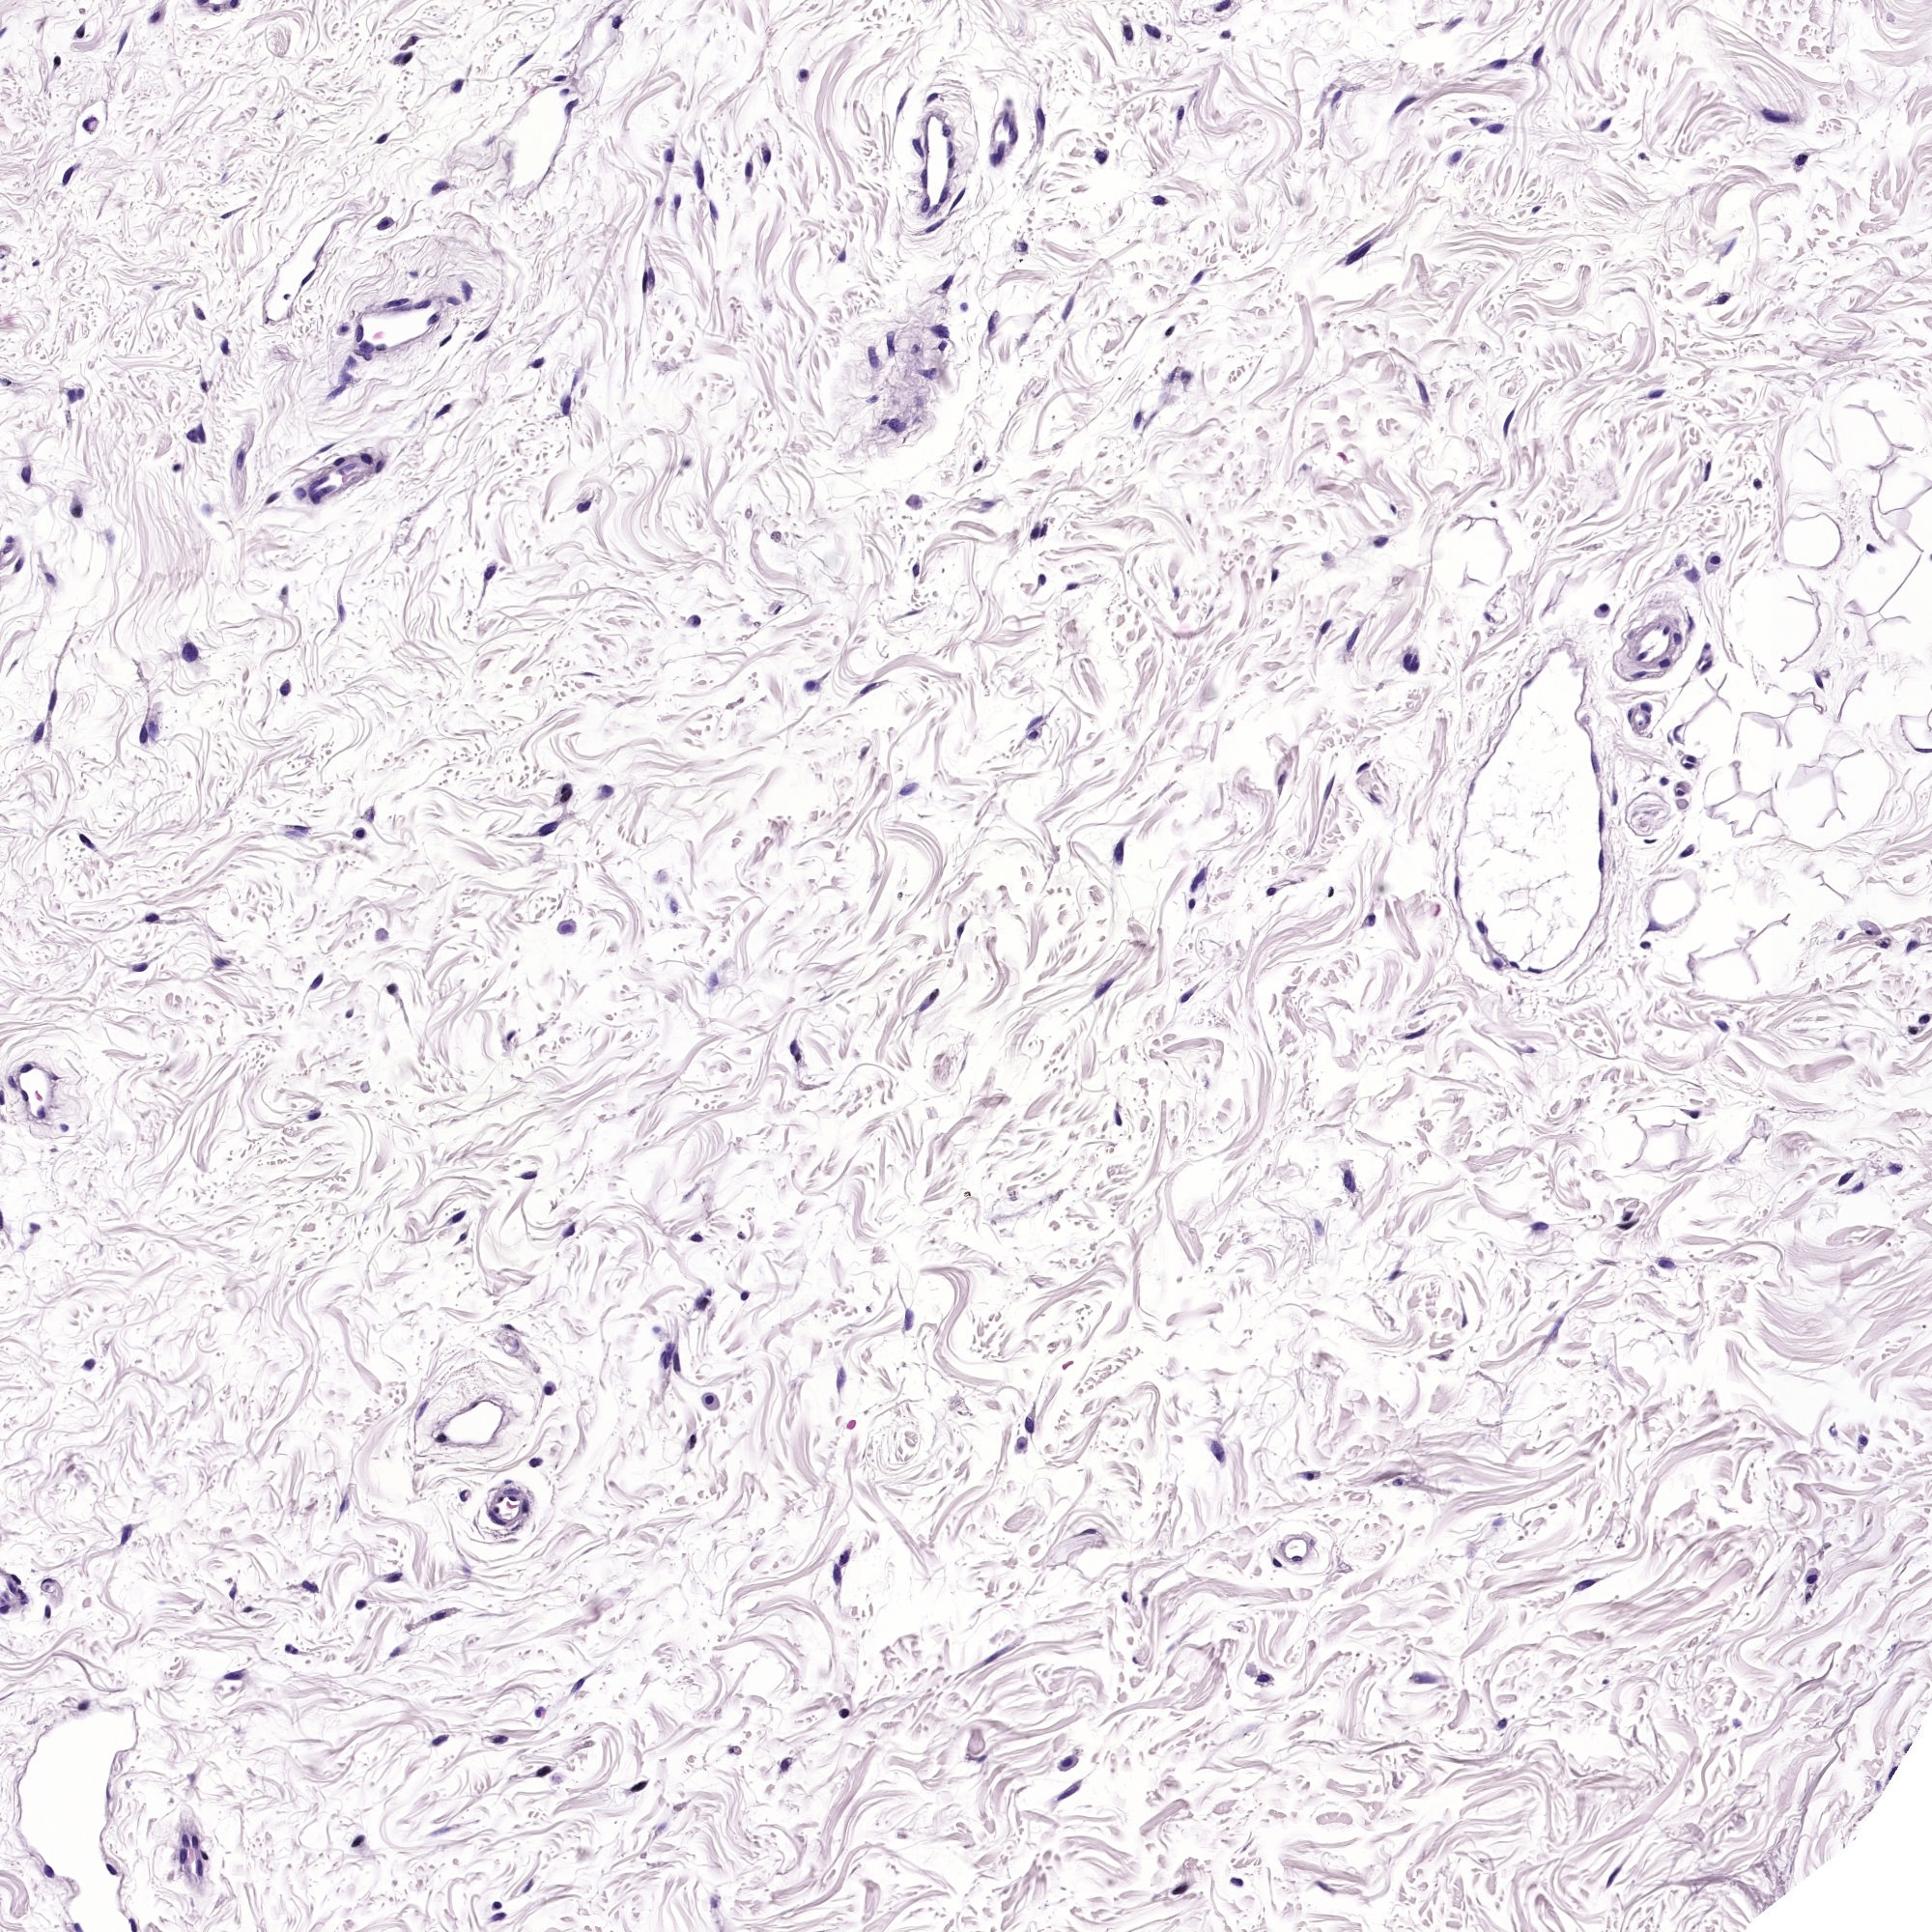fibroblast and endothelial: (793, 1047, 800, 1058), (317, 490, 324, 497), (1067, 308, 1072, 317), (1401, 103, 1408, 108), (317, 479, 324, 485), (1196, 874, 1201, 881), (1097, 989, 1104, 994), (1686, 849, 1691, 856), (1580, 1583, 1587, 1589), (156, 12, 161, 18), (1361, 249, 1366, 255), (1417, 1674, 1422, 1679), (25, 472, 28, 479), (545, 826, 548, 833), (1601, 858, 1605, 865), (433, 1615, 441, 1619), (64, 175, 67, 180), (1039, 115, 1042, 120), (895, 423, 901, 426), (865, 688, 870, 692), (188, 432, 191, 437), (563, 789, 568, 793), (1184, 994, 1187, 1000), (1497, 962, 1500, 968), (527, 1171, 531, 1177), (311, 1115, 317, 1118), (124, 1529, 127, 1534), (248, 1608, 253, 1612), (469, 1405, 474, 1408), (356, 1840, 361, 1844), (225, 214, 228, 218), (478, 334, 481, 338), (1016, 131, 1017, 138), (989, 317, 991, 324), (1159, 198, 1162, 202), (1150, 27, 1154, 30), (1453, 156, 1456, 159), (1495, 126, 1497, 133), (1474, 120, 1477, 124), (488, 570, 490, 577), (364, 456, 368, 460), (48, 577, 51, 580), (138, 966, 142, 970), (150, 916, 154, 920), (315, 980, 318, 984), (1373, 796, 1376, 800), (1594, 761, 1598, 764), (1647, 840, 1654, 842), (1530, 970, 1537, 971), (1844, 1177, 1847, 1180), (1537, 1223, 1541, 1226), (288, 1647, 292, 1651), (391, 1576, 398, 1578), (1065, 1790, 1072, 1792), (571, 103, 573, 108), (433, 317, 435, 322), (701, 172, 702, 177), (656, 198, 658, 203), (957, 198, 959, 203), (996, 156, 998, 161), (947, 280, 948, 285), (1129, 28, 1131, 34), (200, 432, 202, 437), (16, 563, 18, 568), (510, 1033, 511, 1039), (932, 996, 934, 1001), (1279, 780, 1281, 786), (1329, 890, 1330, 895), (1415, 1033, 1421, 1035), (579, 1679, 580, 1684), (57, 58, 58, 62), (382, 138, 384, 142), (433, 186, 437, 188), (522, 58, 525, 60), (561, 76, 564, 78), (453, 301, 456, 303), (446, 340, 448, 343), (423, 303, 425, 306), (748, 166, 750, 170), (669, 154, 671, 157), (711, 209, 713, 212), (840, 257, 844, 258), (925, 203, 927, 207), (916, 145, 918, 149), (950, 161, 952, 165), (941, 331, 943, 334), (1499, 62, 1500, 65), (1536, 207, 1537, 211), (1603, 124, 1605, 127), (1721, 297, 1723, 301), (977, 465, 980, 467), (582, 506, 586, 508), (379, 464, 380, 467), (299, 490, 303, 492), (343, 467, 347, 469), (272, 497, 276, 499), (283, 688, 285, 692), (340, 610, 341, 614), (85, 839, 87, 842), (25, 1067, 28, 1069), (564, 796, 566, 800), (299, 826, 301, 830), (906, 789, 908, 793), (1120, 849, 1122, 853), (1362, 766, 1366, 768), (1481, 927, 1483, 931), (1884, 943, 1886, 947), (1911, 945, 1913, 948), (1890, 1166, 1891, 1169), (1858, 1185, 1859, 1189), (456, 1214, 458, 1217), (839, 1378, 842, 1380), (1394, 1274, 1398, 1276), (1624, 1224, 1628, 1226), (1865, 1437, 1867, 1440), (1382, 1474, 1384, 1477), (1219, 1451, 1221, 1454), (991, 1656, 993, 1660), (395, 1651, 396, 1654), (495, 1507, 497, 1511), (421, 1407, 423, 1410), (48, 1874, 50, 1877), (198, 1868, 200, 1872), (541, 1769, 543, 1773), (497, 1916, 499, 1920), (1235, 1881, 1238, 1882), (78, 28, 80, 30), (122, 39, 124, 41), (306, 276, 308, 278), (564, 90, 566, 92), (398, 301, 400, 303), (359, 331, 361, 333), (651, 278, 653, 280), (931, 97, 932, 99), (902, 101, 904, 103), (947, 131, 948, 133), (950, 149, 952, 150), (934, 226, 936, 228), (1005, 119, 1007, 120), (1221, 5, 1223, 7), (1769, 115, 1771, 117), (564, 403, 566, 405), (442, 409, 444, 410), (340, 389, 341, 391), (283, 591, 285, 593), (71, 391, 73, 393), (7, 548, 9, 550), (1031, 720, 1033, 722), (1652, 927, 1654, 929), (1691, 759, 1693, 761), (1700, 658, 1702, 660), (1723, 1024, 1725, 1026), (62, 1125, 64, 1127), (12, 1083, 14, 1085), (566, 1231, 568, 1233), (702, 1300, 704, 1302), (695, 1237, 697, 1238), (1663, 1263, 1665, 1265), (1276, 1562, 1277, 1564), (234, 1674, 235, 1675), (310, 1587, 311, 1589), (497, 1518, 499, 1520), (442, 1739, 444, 1741), (495, 1739, 497, 1741), (527, 1886, 529, 1888), (1180, 1890, 1182, 1891)
inflammatory: (186, 649, 193, 658), (1925, 1017, 1928, 1021), (534, 1460, 538, 1463), (384, 221, 386, 225), (616, 19, 617, 23), (918, 502, 920, 506), (343, 329, 345, 331), (1714, 559, 1716, 561), (566, 927, 568, 929), (88, 1362, 90, 1364), (1812, 1578, 1813, 1580), (1263, 1677, 1265, 1679), (538, 1713, 540, 1714), (1065, 1762, 1067, 1764)
lymphocyte: (1637, 674, 1642, 678), (1817, 679, 1821, 683), (1506, 418, 1507, 423), (1192, 901, 1194, 906), (1801, 157, 1803, 161), (1414, 663, 1415, 667), (1355, 635, 1357, 639), (1136, 419, 1139, 421), (1042, 579, 1044, 582), (1072, 584, 1076, 586), (1269, 888, 1272, 890), (1868, 932, 1872, 934), (1911, 1028, 1913, 1031), (359, 1603, 361, 1606), (1891, 1771, 1893, 1775), (1224, 32, 1226, 34), (1691, 571, 1693, 573), (1408, 656, 1410, 658), (1044, 529, 1046, 531), (916, 570, 918, 571), (743, 1295, 745, 1297), (497, 1905, 499, 1907), (842, 1713, 844, 1714), (1610, 1879, 1612, 1881)
